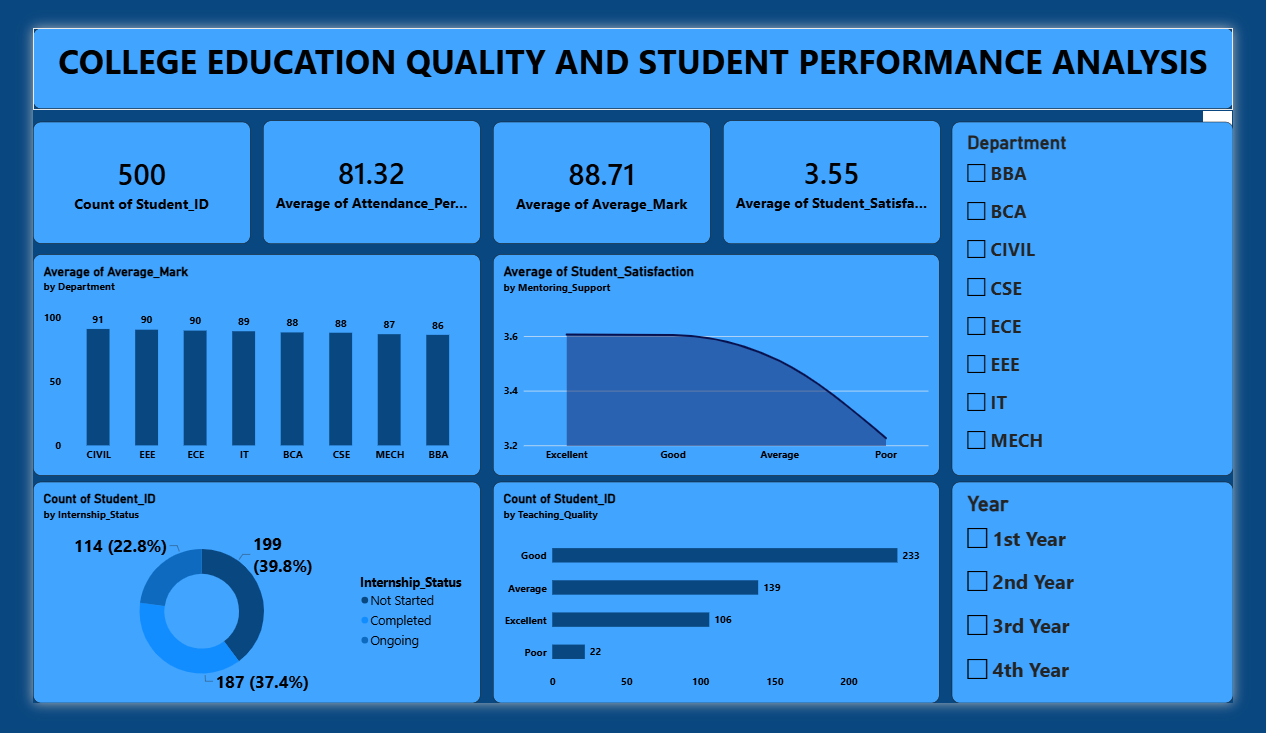

The page's visual inventory and layout, read from the dashboard file:
{"tool":"powerbi","page":{"name":"Page 2","canvas":[1920,1080],"ordinal":1},"visuals":[{"type":"textbox","box":[0,0,1920.4,129.7],"z":0},{"type":"card","fields":{"Values":["CountNonNull(EducationQualityData.Student_ID)"]},"box":[0,150.3,347.9,195.5],"z":1000},{"type":"card","fields":{"Values":["Avg(EducationQualityData.Attendance_Percentage)"]},"box":[368.4,148.2,347.9,197.6],"z":2000},{"type":"card","fields":{"Values":["Avg(EducationQualityData.Average_Mark)"]},"box":[736.9,150.3,347.9,195.5],"z":3000},{"type":"card","fields":{"Values":["Avg(EducationQualityData.Student_Satisfaction)"]},"box":[1103.3,148.2,347.9,197.6],"z":4000},{"type":"slicer","fields":{"Values":["EducationQualityData.Department"]},"box":[1469.6,150.3,450.8,566],"z":5000},{"type":"slicer","fields":{"Values":["EducationQualityData.Year"]},"box":[1469.6,726.6,450.8,354],"z":6000},{"type":"barChart","fields":{"Category":["EducationQualityData.Teaching_Quality"],"Y":["CountNonNull(EducationQualityData.Student_ID)"]},"box":[736.9,726.6,714.2,354],"z":7000},{"type":"columnChart","fields":{"Category":["EducationQualityData.Department"],"Y":["Avg(EducationQualityData.Average_Mark)"]},"box":[0,362.3,716.3,354],"z":8000},{"type":"donutChart","fields":{"Category":["EducationQualityData.Internship_Status"],"Y":["CountNonNull(EducationQualityData.Student_ID)"]},"box":[0,726.6,716.3,354],"z":9000},{"type":"areaChart","fields":{"Category":["EducationQualityData.Mentoring_Support"],"Y":["Avg(EducationQualityData.Student_Satisfaction)"]},"box":[736.9,362.3,714.2,354],"z":10000}]}

Visuals, with their boxes in screenshot pixels (x1, y1, x2, y2), scaled from the page's 1920x1080 canvas onto the 1266x733 screenshot:
textbox: bbox=(0, 0, 1265, 88)
card - CountNonNull(EducationQualityData.Student_ID): bbox=(0, 102, 229, 235)
card - Avg(EducationQualityData.Attendance_Percentage): bbox=(243, 101, 472, 235)
card - Avg(EducationQualityData.Average_Mark): bbox=(486, 102, 715, 235)
card - Avg(EducationQualityData.Student_Satisfaction): bbox=(727, 101, 957, 235)
slicer - EducationQualityData.Department: bbox=(969, 102, 1265, 486)
slicer - EducationQualityData.Year: bbox=(969, 493, 1265, 732)
barChart - EducationQualityData.Teaching_Quality x CountNonNull(EducationQualityData.Student_ID): bbox=(486, 493, 957, 732)
columnChart - EducationQualityData.Department x Avg(EducationQualityData.Average_Mark): bbox=(0, 246, 472, 486)
donutChart - EducationQualityData.Internship_Status x CountNonNull(EducationQualityData.Student_ID): bbox=(0, 493, 472, 732)
areaChart - EducationQualityData.Mentoring_Support x Avg(EducationQualityData.Student_Satisfaction): bbox=(486, 246, 957, 486)
